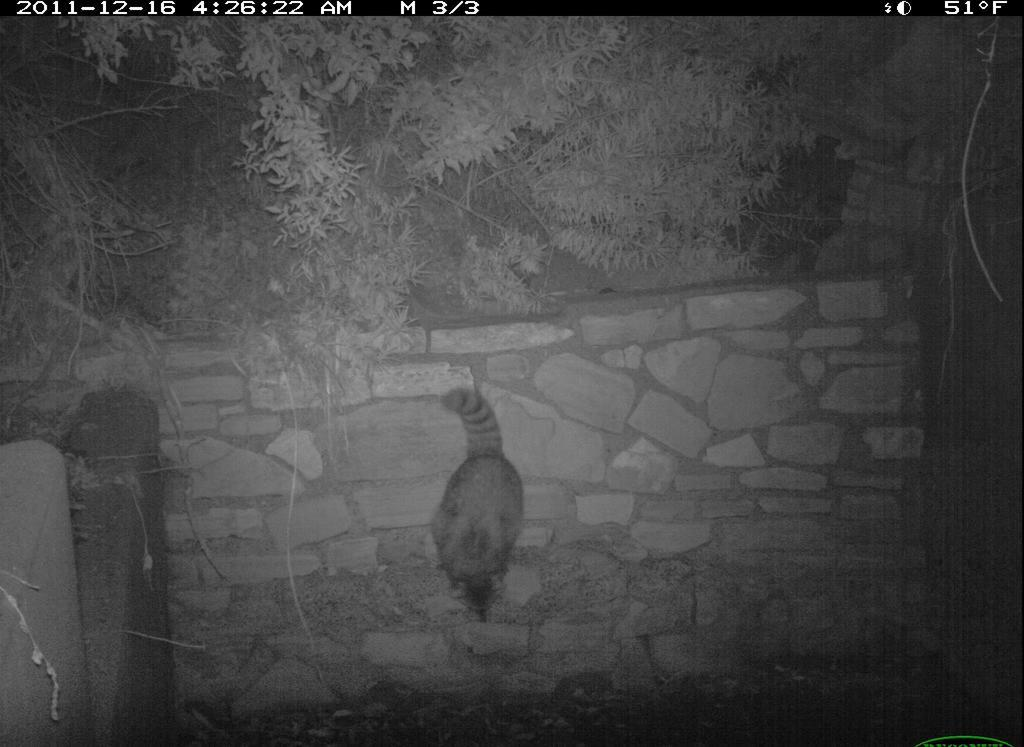raccoon: (422, 373, 529, 630)
